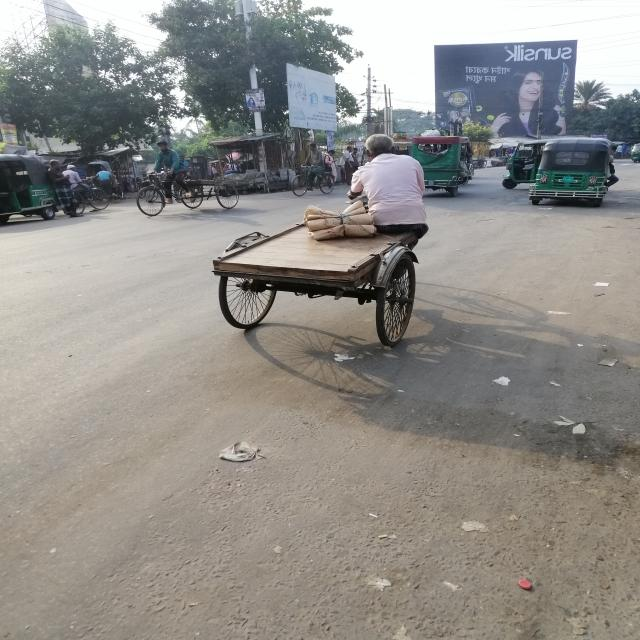Van: (205, 178, 445, 366)
